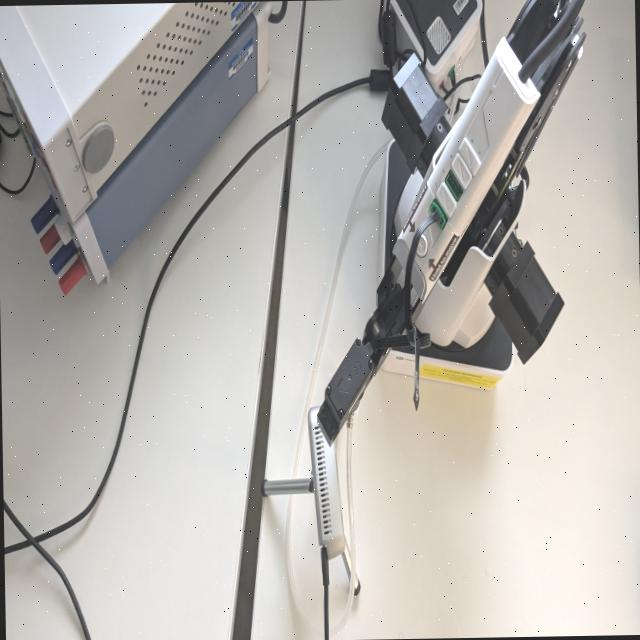Robot-end-effector-HF8z: (314, 330, 378, 448)
